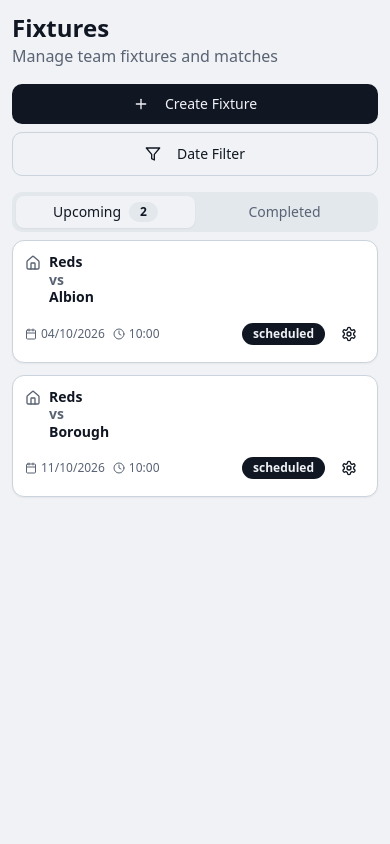
Fixtures delete confirmation (BUG-025) › names the opponent and date of the selected fixture
expect the text "Albion" is shown: met, box [49,287,94,306]
Press Enter in the button without text in the row of "11/10/2026", box [333,452,365,484]
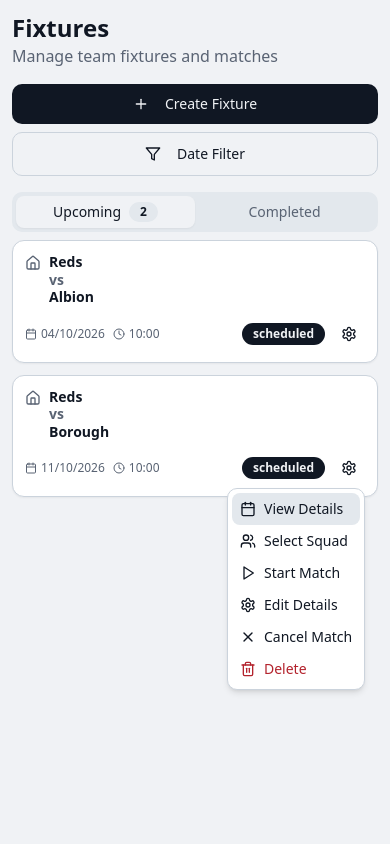
Click the menu item "Delete" at (273, 668), box [240,659,307,678]
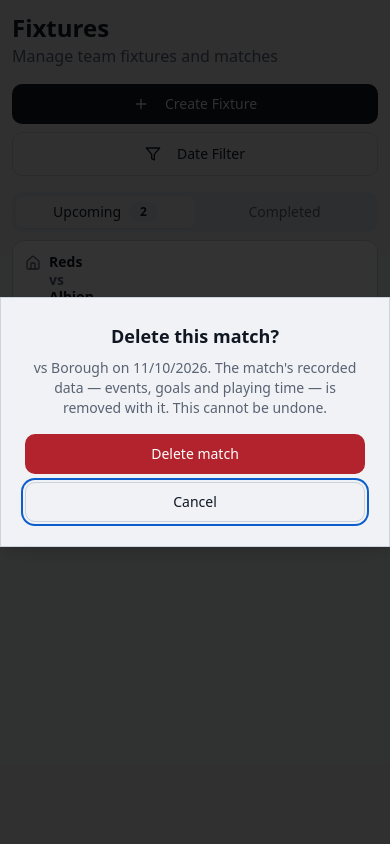
expect the heading "Delete this match?" is shown: met, box [111,324,279,348]
expect the dialog shows "Borough": met, box [51,358,109,377]
expect the dialog shows "11/10/2026": met, box [133,358,208,377]
